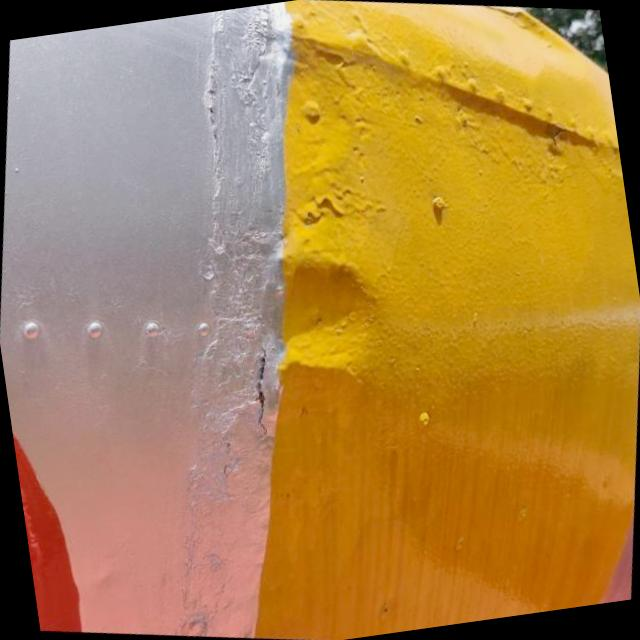dent: (256, 186, 432, 407)
